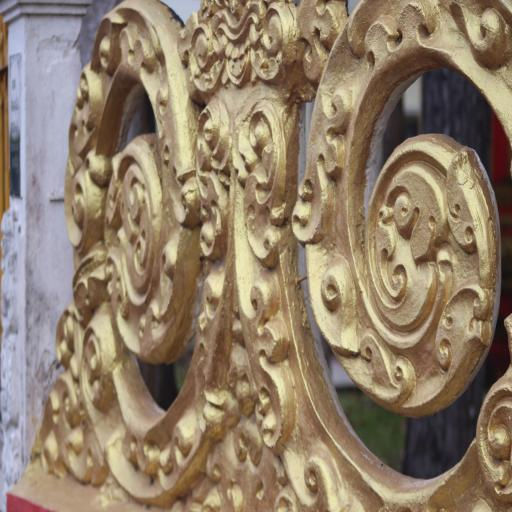la: (250, 0, 512, 512), (61, 0, 249, 510)
